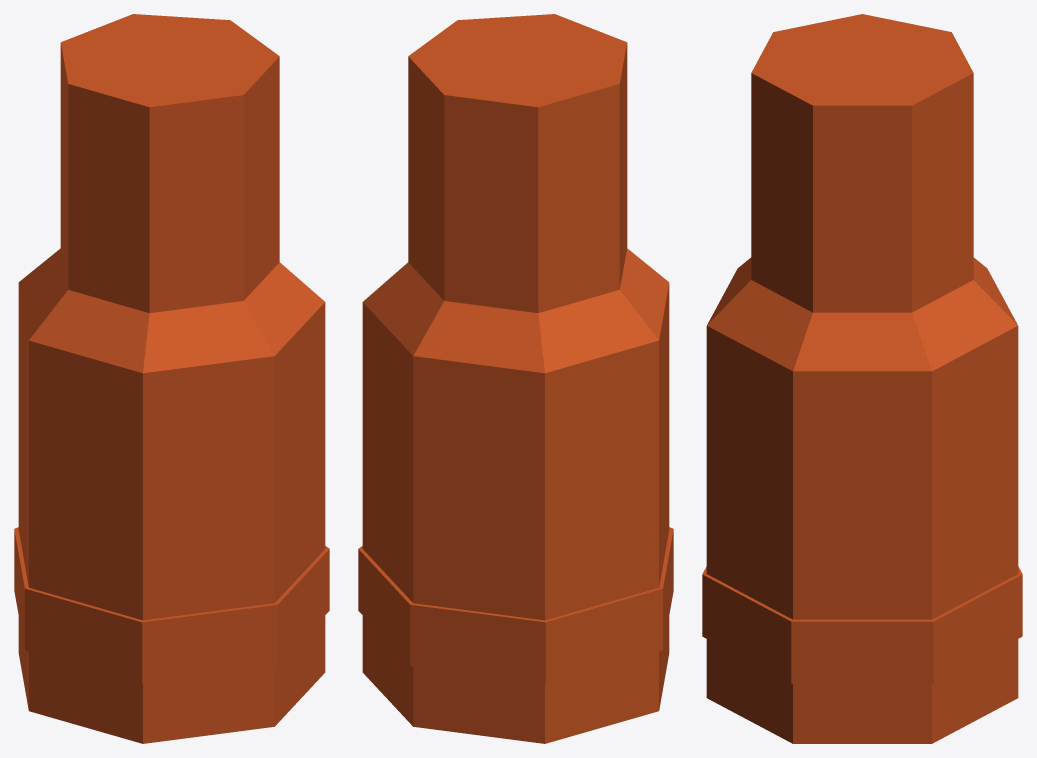
The model's file is ce_ammo2_flare_chem_a.obj.
3 views of the same model, side by side, from view 1: azimuth 30°, elevation 25°; view 2: azimuth 150°, elevation 25°; view 3: azimuth 270°, elevation 25° (orthographic).
Visible parts, largest first — view 1: ce_ammo2_flare_chem_a_2, ce_ammo2_flare_chem_a_4, ce_ammo2_flare_chem_a_1, ce_ammo2_flare_chem_a_3, ce_ammo2_flare_chem_a_0; view 2: ce_ammo2_flare_chem_a_2, ce_ammo2_flare_chem_a_4, ce_ammo2_flare_chem_a_1, ce_ammo2_flare_chem_a_3, ce_ammo2_flare_chem_a_0; view 3: ce_ammo2_flare_chem_a_2, ce_ammo2_flare_chem_a_4, ce_ammo2_flare_chem_a_1, ce_ammo2_flare_chem_a_3, ce_ammo2_flare_chem_a_0.
Part boxes in pixels (box(x1,y1,x2,y2)): ce_ammo2_flare_chem_a_2: box(18, 283, 325, 620); ce_ammo2_flare_chem_a_4: box(60, 14, 279, 313); ce_ammo2_flare_chem_a_1: box(14, 527, 329, 683); ce_ammo2_flare_chem_a_3: box(18, 248, 324, 373); ce_ammo2_flare_chem_a_0: box(18, 616, 325, 743); ce_ammo2_flare_chem_a_2: box(362, 283, 669, 620); ce_ammo2_flare_chem_a_4: box(408, 14, 627, 313); ce_ammo2_flare_chem_a_1: box(358, 527, 673, 683); ce_ammo2_flare_chem_a_3: box(363, 248, 669, 373); ce_ammo2_flare_chem_a_0: box(362, 616, 669, 743); ce_ammo2_flare_chem_a_2: box(706, 326, 1018, 619); ce_ammo2_flare_chem_a_4: box(751, 14, 973, 312); ce_ammo2_flare_chem_a_1: box(702, 566, 1022, 683); ce_ammo2_flare_chem_a_3: box(707, 257, 1017, 371); ce_ammo2_flare_chem_a_0: box(706, 639, 1018, 743).
Bounding box in the file's own units: 0.1369 × 0.3 × 0.1404.
